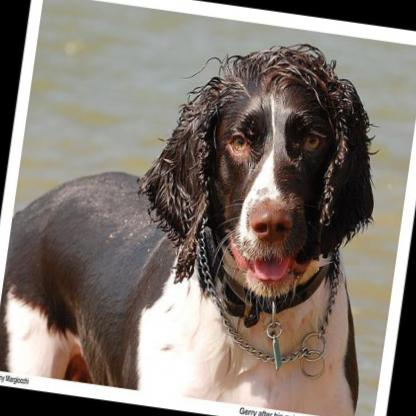English_springer: (0, 3, 402, 416)
